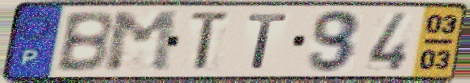4: (364, 10, 410, 72)
9: (305, 8, 365, 75)
B: (53, 9, 116, 74)
M: (104, 9, 180, 74)
T: (188, 9, 234, 74), (245, 12, 291, 71)
